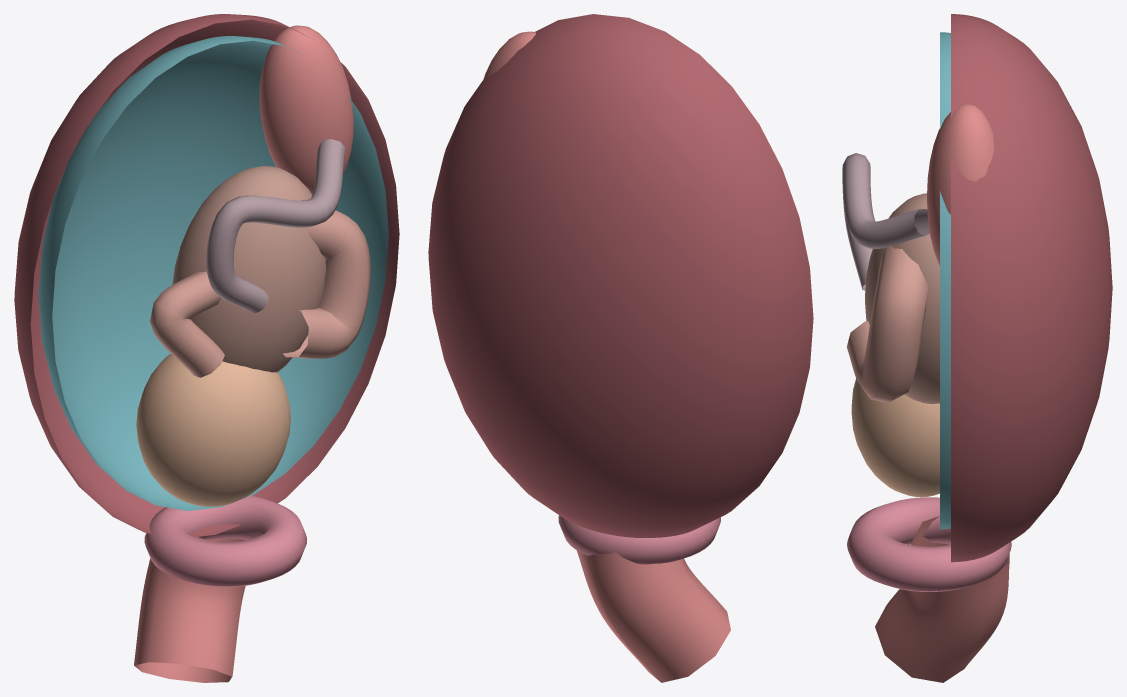
Rendered from birth-orientation.glb.
3 renders of one model, left to right at view 1: azimuth 30°, elevation 25°; view 2: azimuth 150°, elevation 25°; view 3: azimuth 270°, elevation 25°, orthographic.
Parts seen in each view (by area): view 1: amniotic_sac, uterine_wall, fetal_head, fetal_trunk, flexed_limbs, cervix, placenta, birth_canal, umbilical_cord; view 2: uterine_wall, birth_canal, cervix, placenta; view 3: uterine_wall, birth_canal, cervix, flexed_limbs, fetal_head, placenta, fetal_trunk, umbilical_cord, amniotic_sac.
Boxes of the visible parts, <box> form: amniotic_sac: <box>38,36,388,510</box>; uterine_wall: <box>14,14,399,536</box>; fetal_head: <box>136,353,290,506</box>; fetal_trunk: <box>172,166,325,372</box>; flexed_limbs: <box>150,210,370,377</box>; cervix: <box>144,495,306,586</box>; placenta: <box>259,25,353,194</box>; birth_canal: <box>134,533,245,682</box>; umbilical_cord: <box>206,139,345,313</box>; uterine_wall: <box>428,14,813,537</box>; birth_canal: <box>576,550,730,682</box>; cervix: <box>558,515,720,564</box>; placenta: <box>483,31,536,80</box>; uterine_wall: <box>951,14,1112,562</box>; birth_canal: <box>875,516,1009,682</box>; cervix: <box>847,497,1011,591</box>; flexed_limbs: <box>847,246,927,402</box>; fetal_head: <box>851,378,939,497</box>; placenta: <box>927,104,994,266</box>; fetal_trunk: <box>865,193,939,403</box>; umbilical_cord: <box>842,153,929,290</box>; amniotic_sac: <box>940,32,950,529</box>.
Bounding box in the file's own units: 1.6 × 2.71 × 1.
